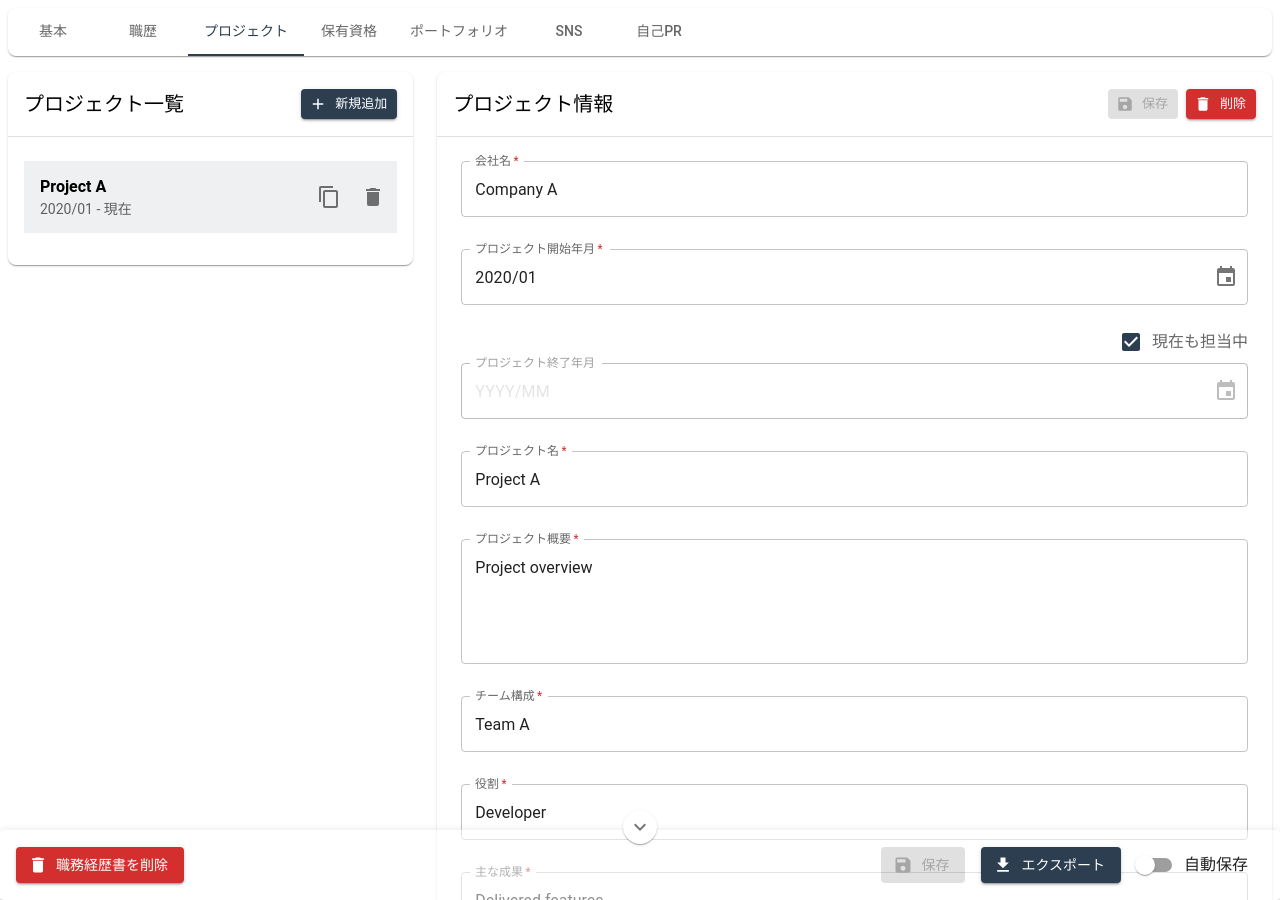
ResumeContainer › 職務経歴書が見つからないエラー › プロジェクト の削除で見つからなかったときは、見つからない画面に切り替えること
Expected: the tab "基本" is shown, [8,8,98,56]
Click the button with aria-label "プロジェクト情報を削除" at [1221, 104], box [1186,89,1256,119]
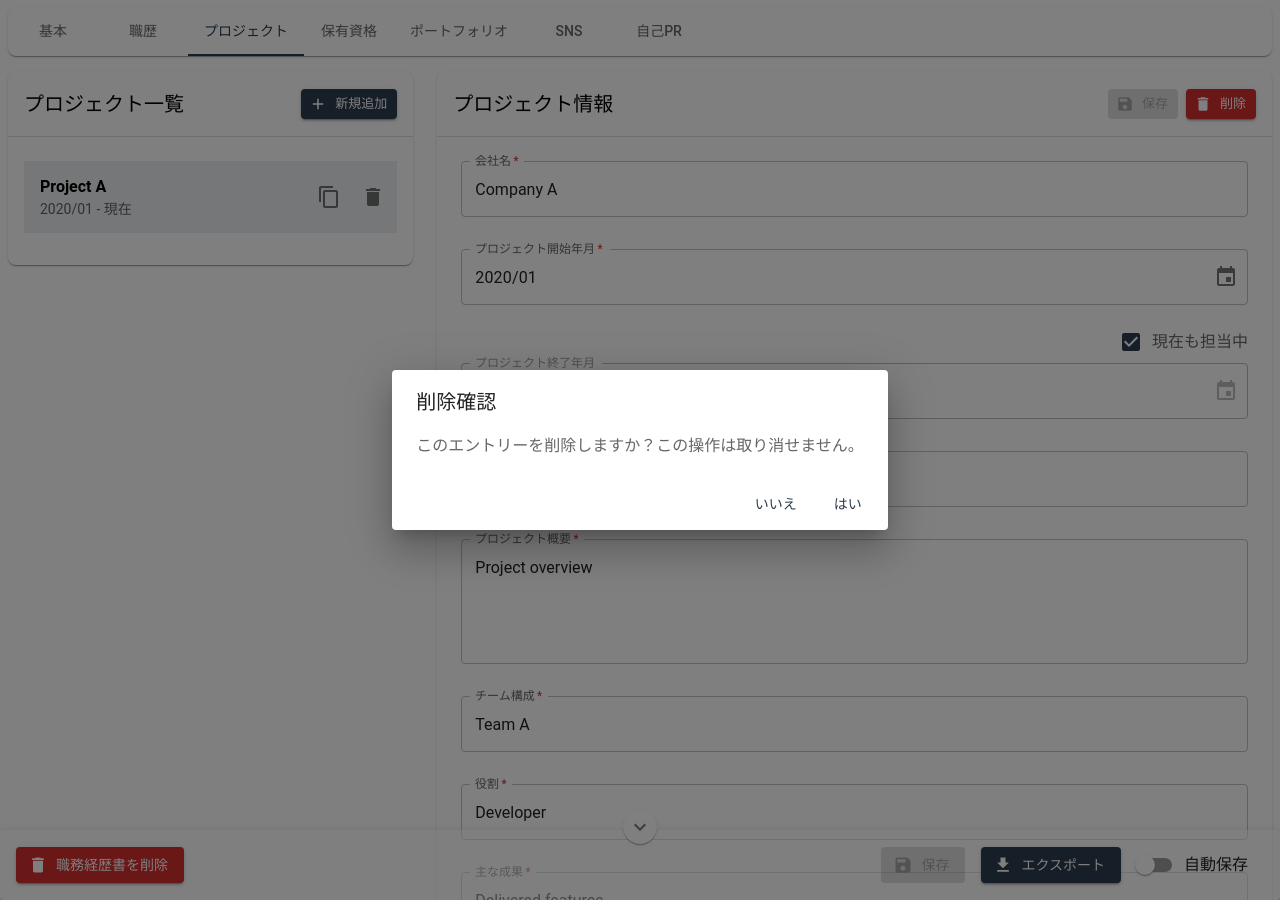
Click the button "はい" at [848, 504], box [816,486,880,522]
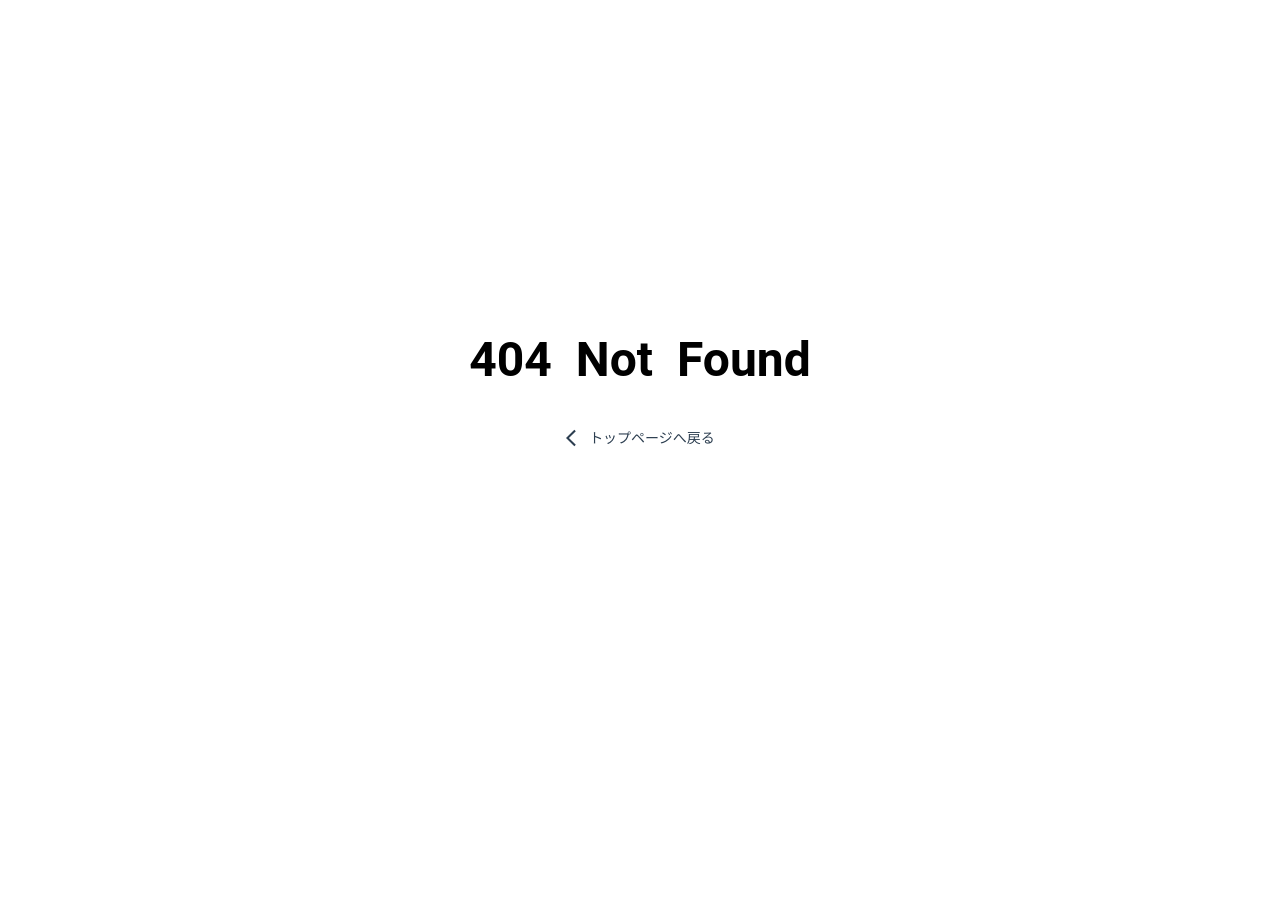
Result: the heading "404 Not Found" is shown at [469,332,811,388]
